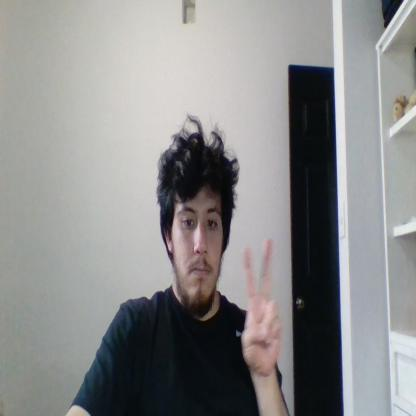V: (242, 237, 281, 375)
